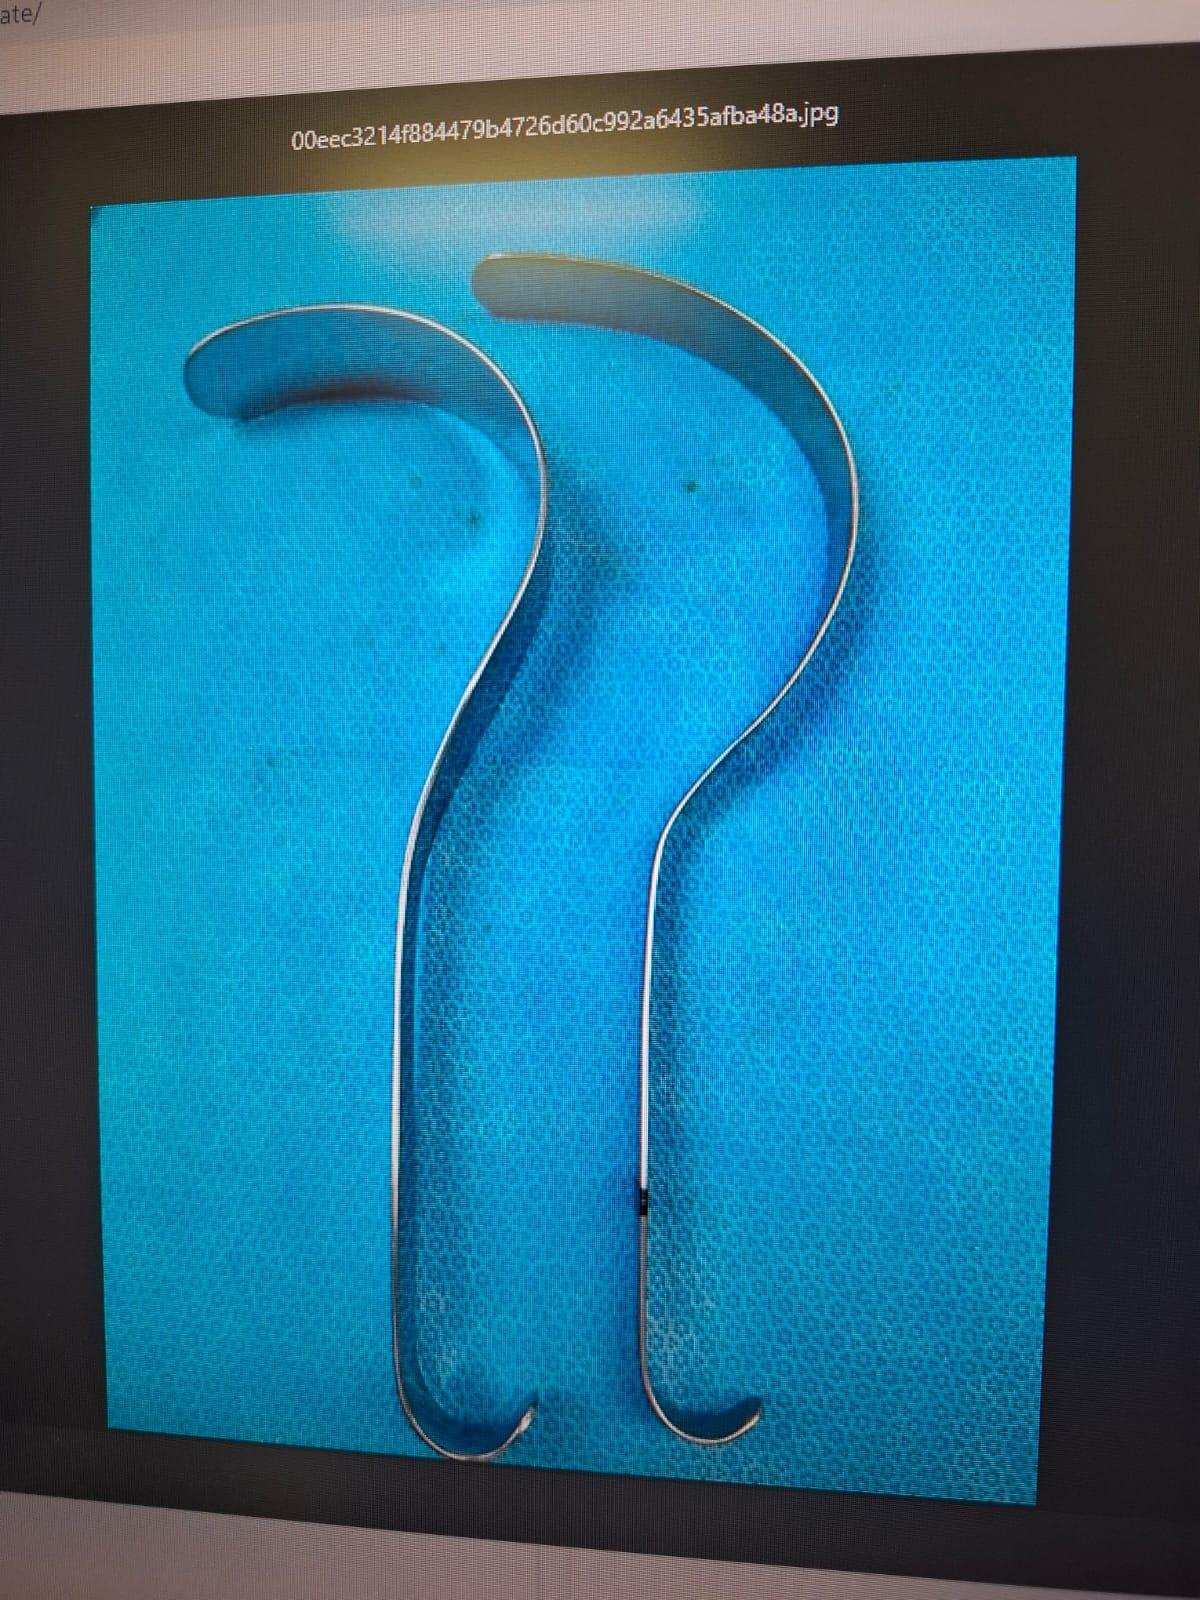Deaver Retractor: (465, 248, 878, 1445), (180, 295, 585, 1468)
